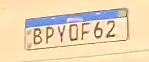Placa_mercosul_carro: (24, 7, 129, 51)
